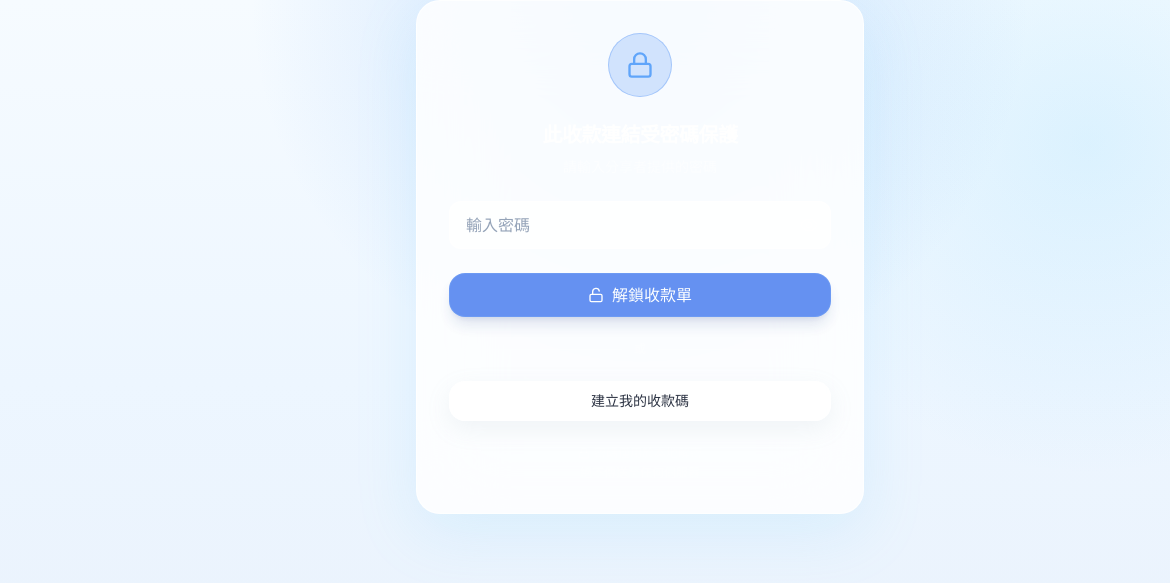
DecryptionChallenge › should show error message for wrong password
Type "wrong-password" into the password field labelled "密碼" at (640, 225), box [449, 201, 831, 249]
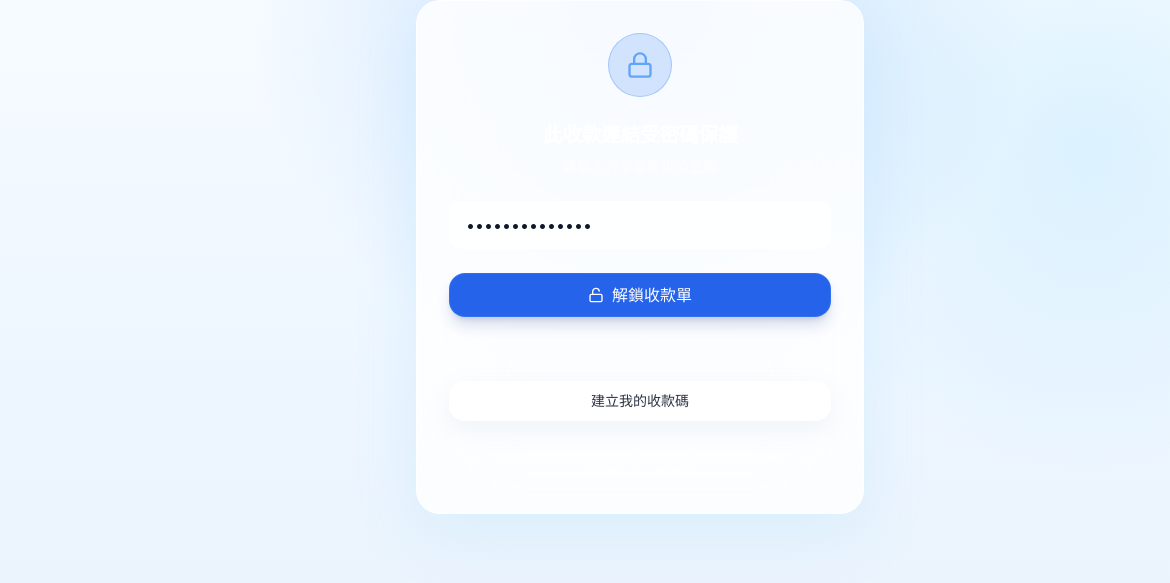
Click the button "解鎖收款單" at (640, 295), box [449, 273, 831, 317]
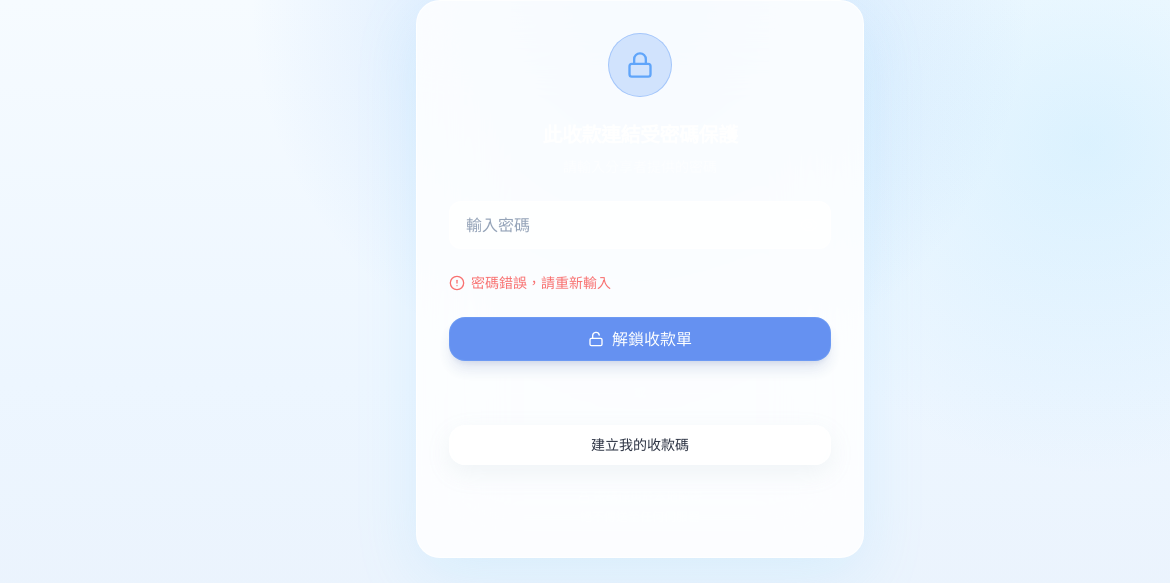
Check: the text "密碼錯誤，請重新輸入" is shown, box [471, 273, 611, 293]
Check: the password field labelled "密碼" is empty, box [449, 201, 831, 249]
